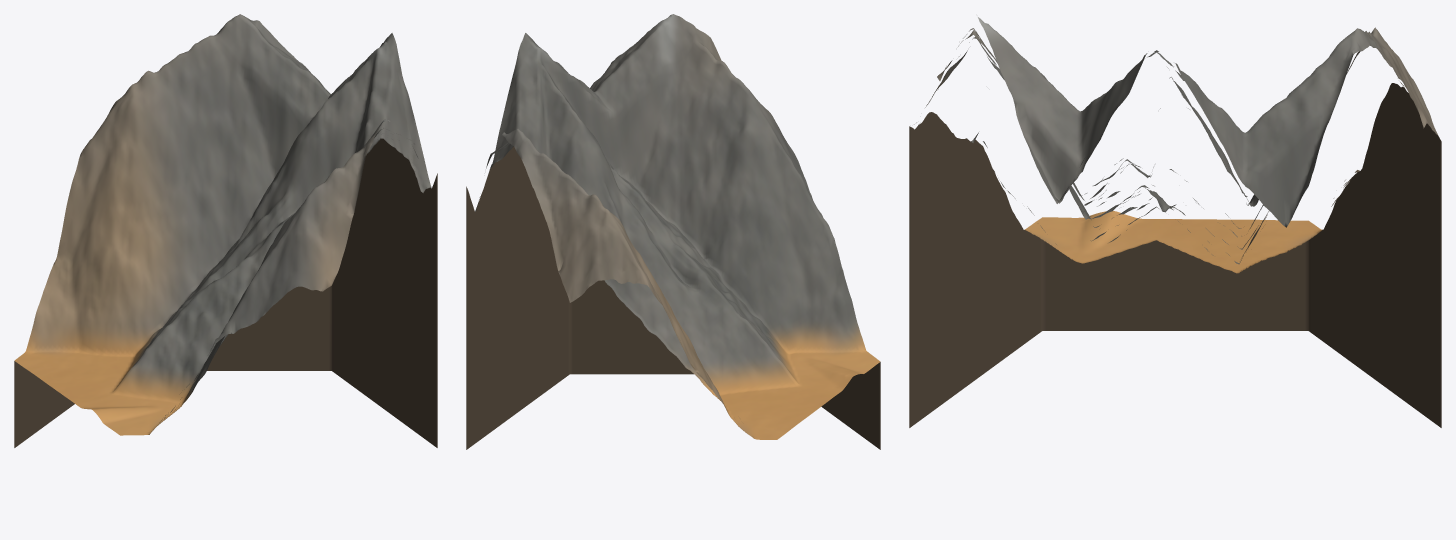
3 views of the same model, side by side, from view 1: azimuth 30°, elevation 25°; view 2: azimuth 150°, elevation 25°; view 3: azimuth 270°, elevation 25° (orthographic). The views are drawn at different scales.
Parts seen in each view (by area): view 1: terrain, hex_side_cut; view 2: terrain, hex_side_cut; view 3: hex_side_cut, terrain.
Boxes of the visible parts, x1,y1,x2,y2 form: terrain: (14, 14, 431, 435); hex_side_cut: (14, 138, 437, 447); terrain: (475, 14, 880, 439); hex_side_cut: (466, 146, 880, 449); hex_side_cut: (909, 83, 1441, 427); terrain: (914, 17, 1439, 273).
Size of the model in its own units: 4330 by 4985 by 5000.
